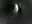person: (14, 4, 20, 15)
